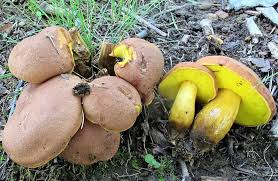boletus_poisinous: (157, 33, 278, 155), (6, 23, 82, 83)
